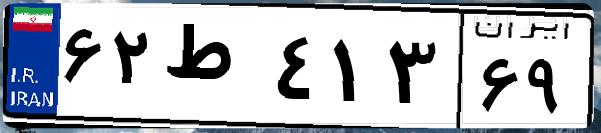1: (330, 28, 385, 110)
2: (110, 28, 158, 98)
3: (385, 28, 445, 110)
4: (270, 28, 330, 110)
6: (57, 26, 110, 100), (475, 38, 525, 113)
9: (525, 38, 570, 115)
ط: (158, 20, 270, 120)
